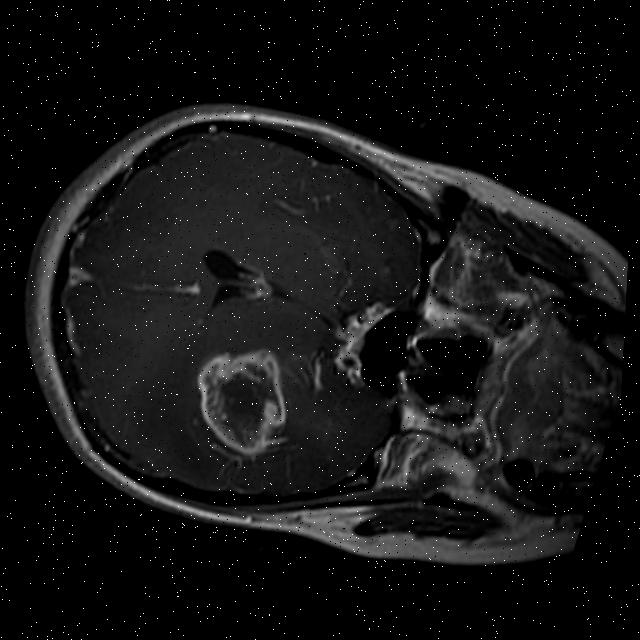Glioma: (175, 327, 306, 466)
